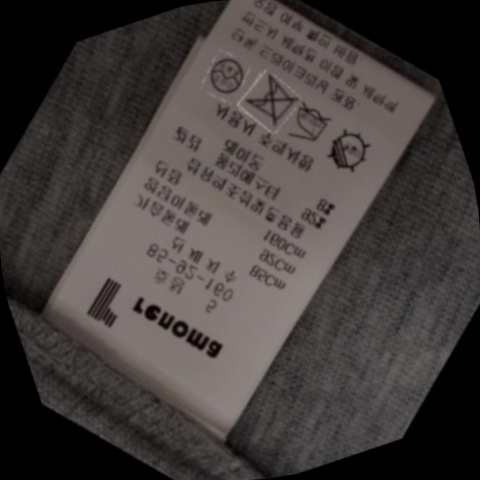DN_wash: (236, 71, 303, 132)
dry_clean_petrol_only: (198, 48, 251, 101)
iron_low: (281, 97, 340, 152)
line_dry_in_shade: (314, 124, 378, 181)
